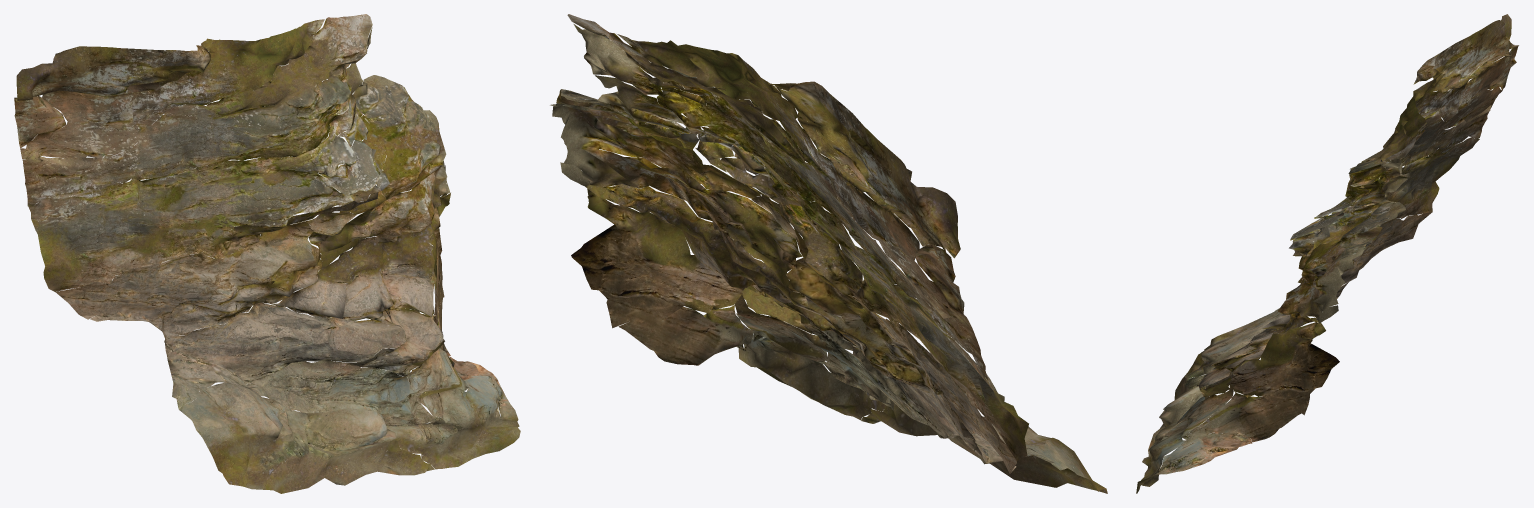
The model's file is rock_face_02.glb.
3 renders of one model, left to right at view 1: azimuth 30°, elevation 25°; view 2: azimuth 150°, elevation 25°; view 3: azimuth 270°, elevation 25°, orthographic. The views are drawn at different scales.
Parts seen in each view (by area): view 1: rock_face_02; view 2: rock_face_02; view 3: rock_face_02.
Boxes of the visible parts, <box> form: rock_face_02: <box>14,14,520,493</box>; rock_face_02: <box>550,14,1107,493</box>; rock_face_02: <box>1136,14,1518,493</box>.
Size of the model in its own units: 1.06 by 1 by 0.9758.
Materials: 1 (1 with a texture image).
